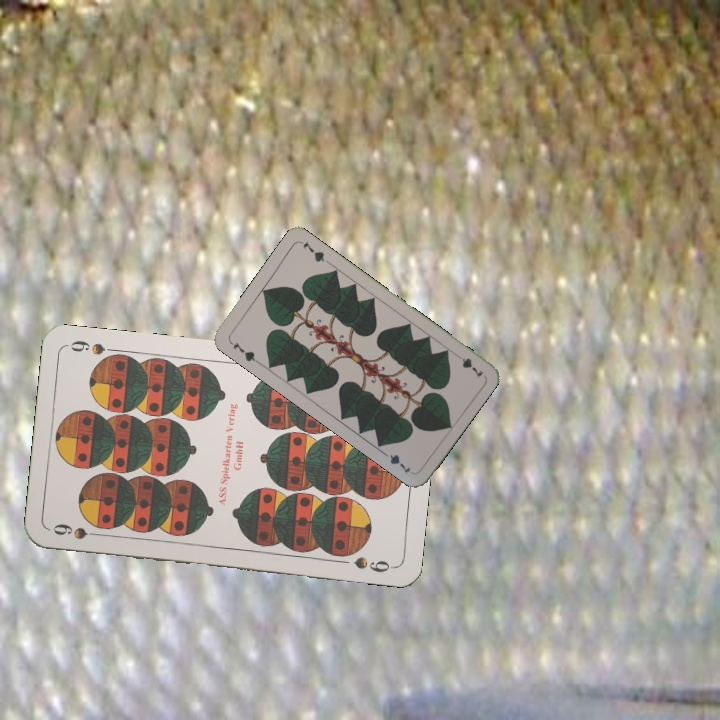G7: (450, 349, 486, 380), (226, 337, 261, 366)
S9: (48, 520, 107, 542)
